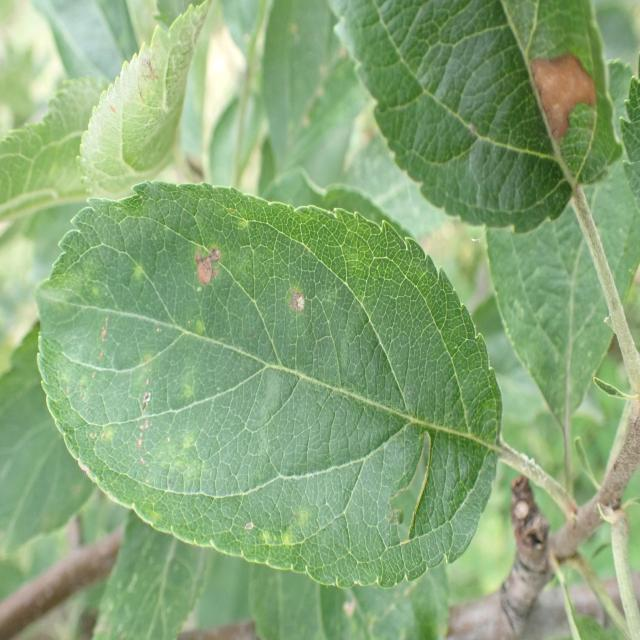frog-eye-leaf-spot: (33, 178, 503, 588), (326, 0, 624, 235)
